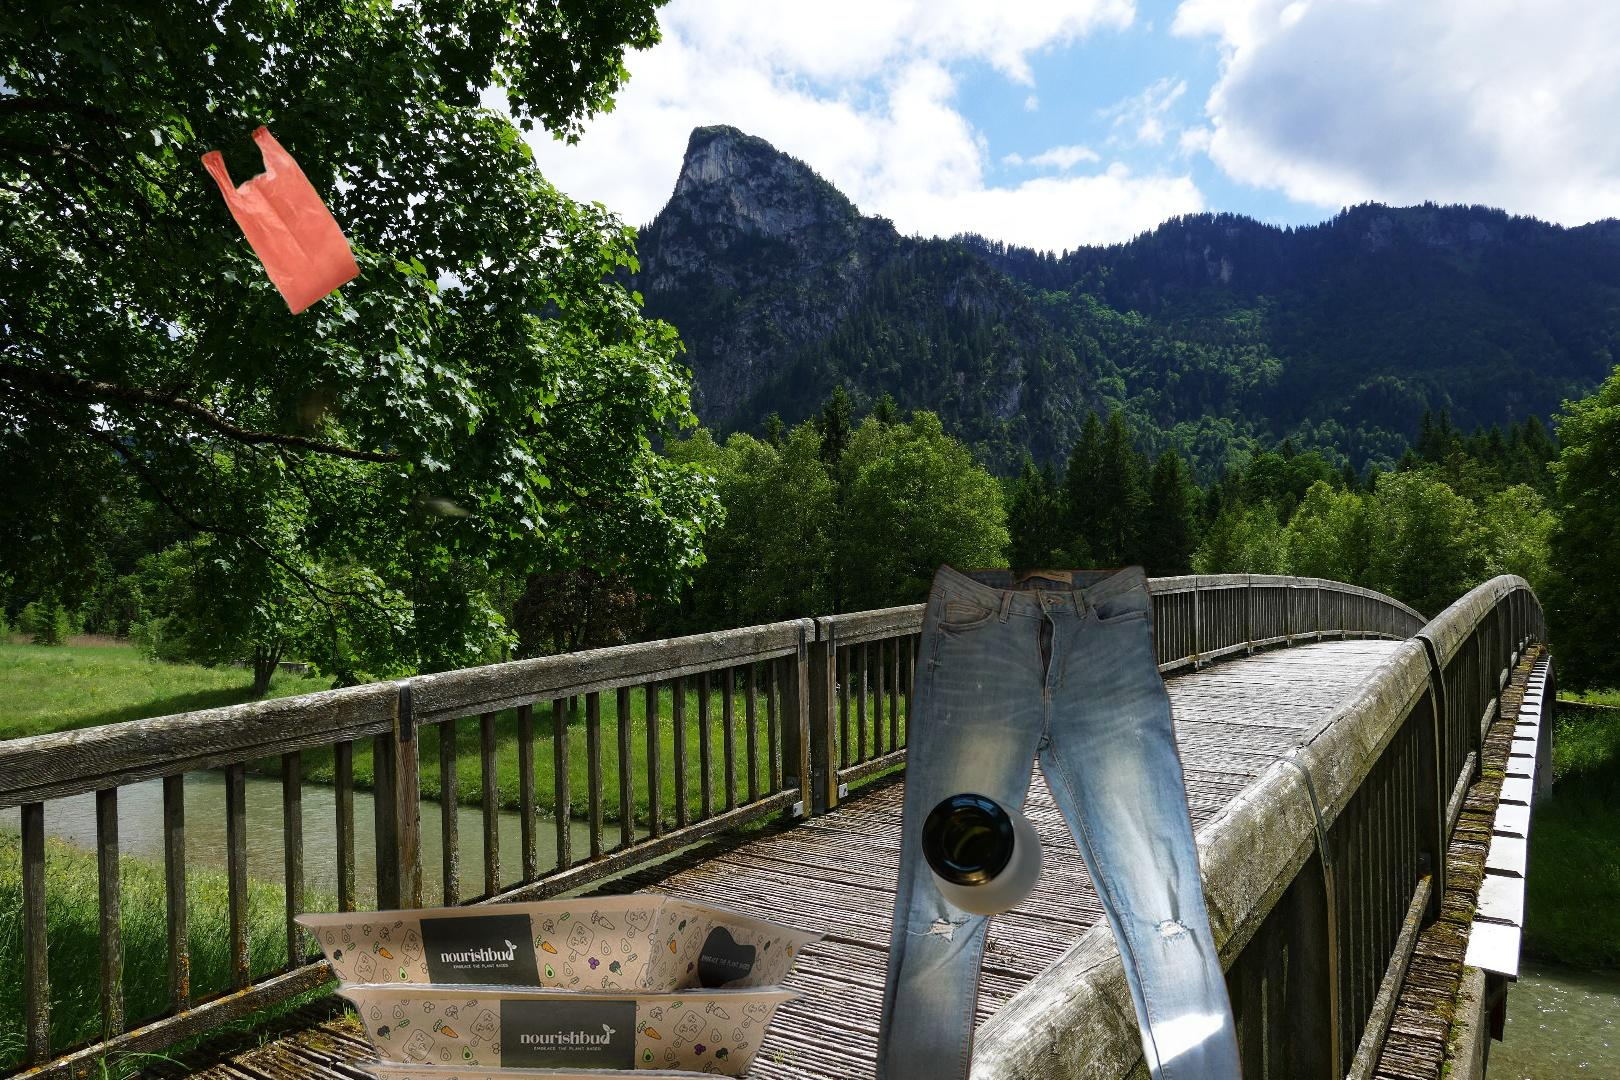biological: (755, 1078, 1255, 1080)
clothes: (869, 557, 1246, 1080)
glass: (916, 790, 1047, 918)
paper: (80, 312, 592, 610)
plastic-bag: (199, 121, 366, 319)
plastic-bottles: (905, 574, 1091, 718), (378, 1019, 580, 1080)
trashbox-cardboard: (289, 888, 843, 1080)
